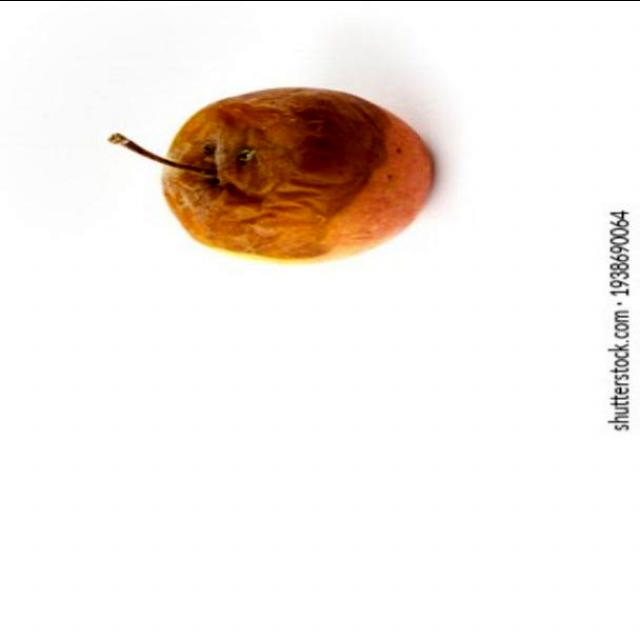ROT: (130, 77, 480, 255)
